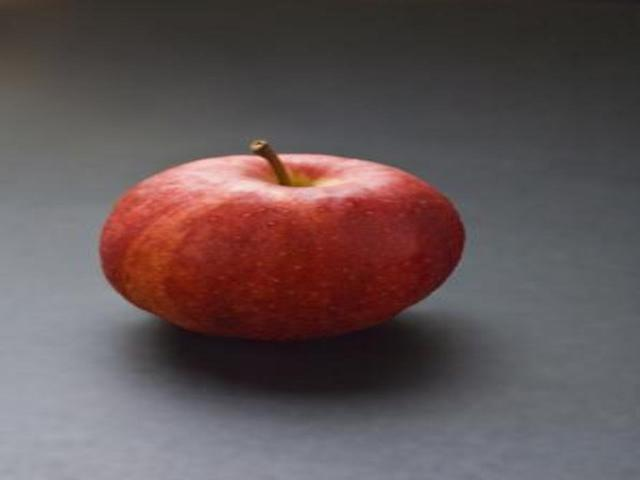apple: (85, 131, 478, 345)
